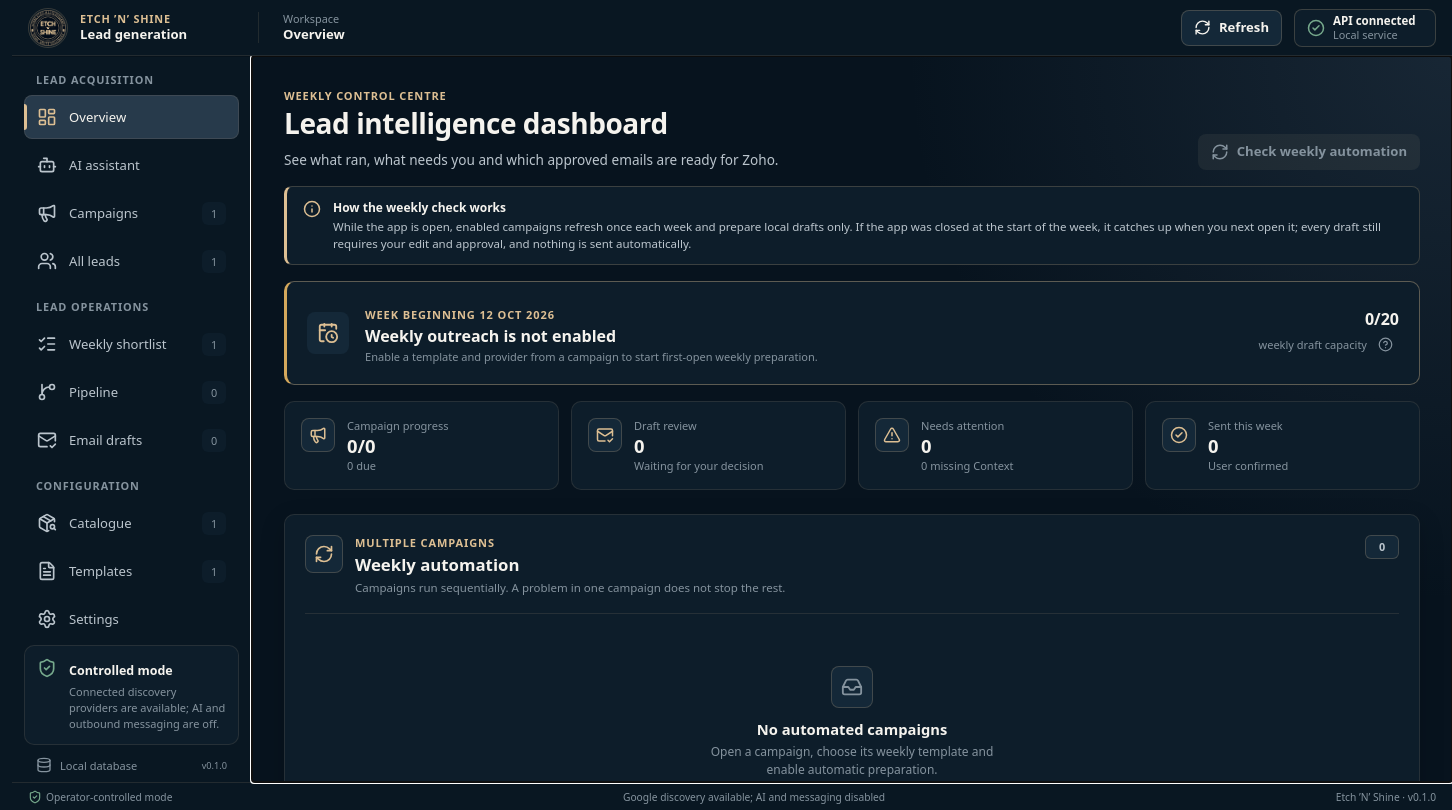
Test: local operating workbench › runs scoring and product matching for a campaign on demand
Expected: the text "API connected" is shown, [1333,14,1416,28]
Click the link "Campaigns 1": (132, 213) [37,202,226,224]
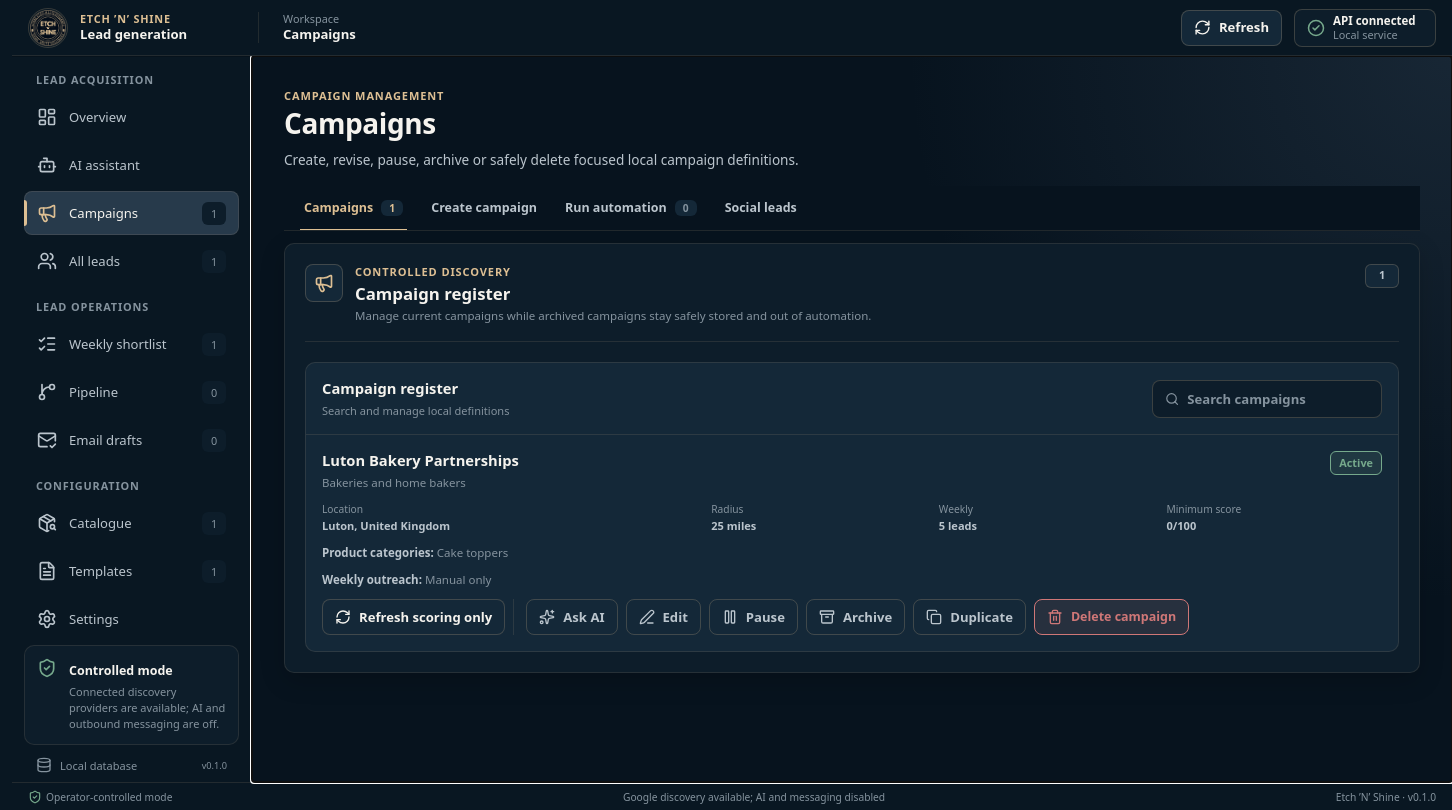
Click the button "Refresh scoring only": (414, 618) [322,600,505,636]
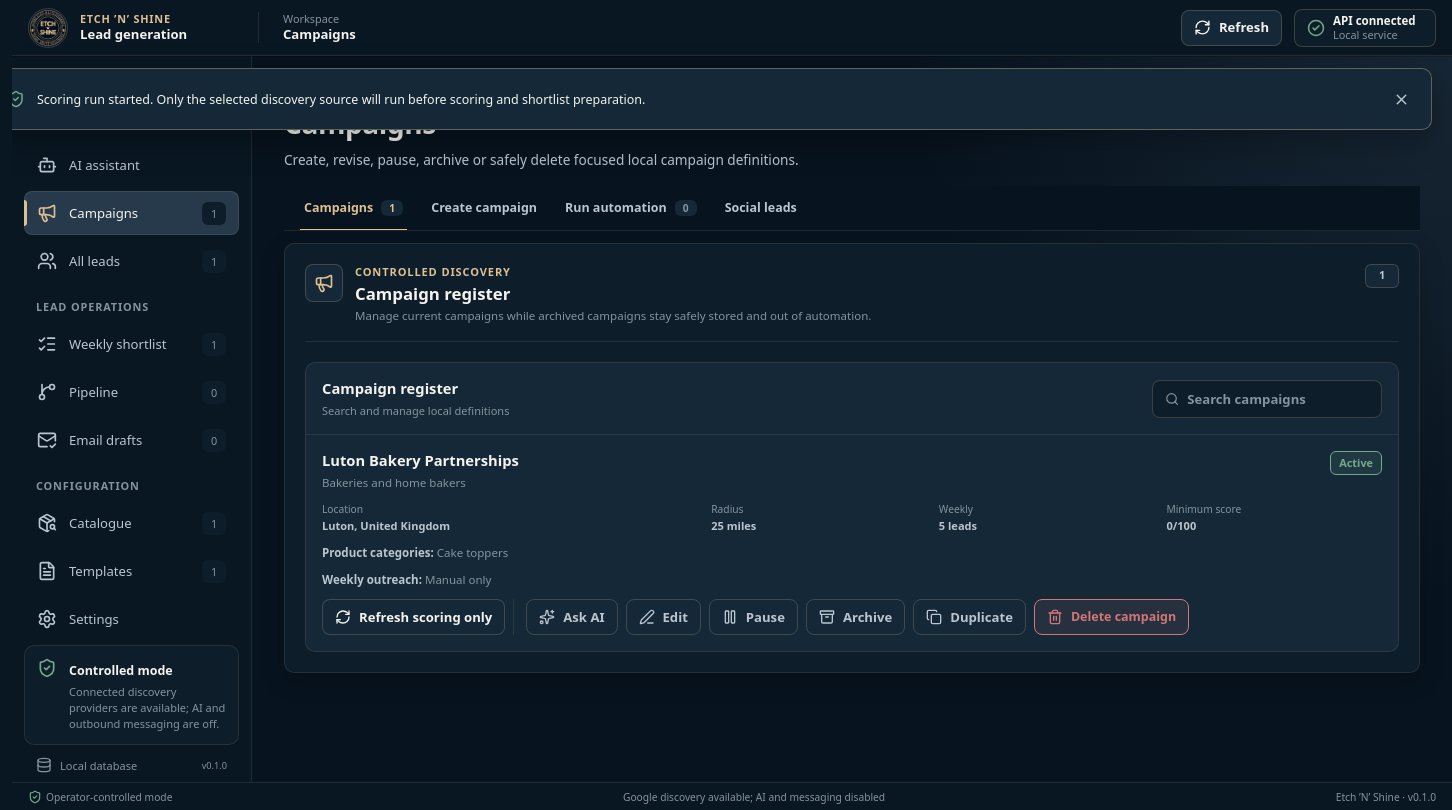
Result: the text "Scoring run started. Only the selected discovery source will run before scoring and shortlist preparation." is shown at [37,90,645,108]
